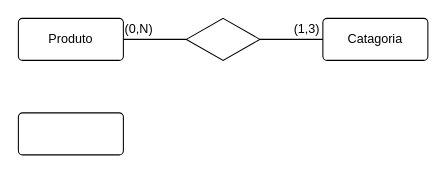
Image size: 446x173. Some labels were removed from this diagram. Here are the shapes that lost their labels. From the top down, the centre of each, then its label:
At (222,38): "Tem".
At (70,133): "Usuário".
